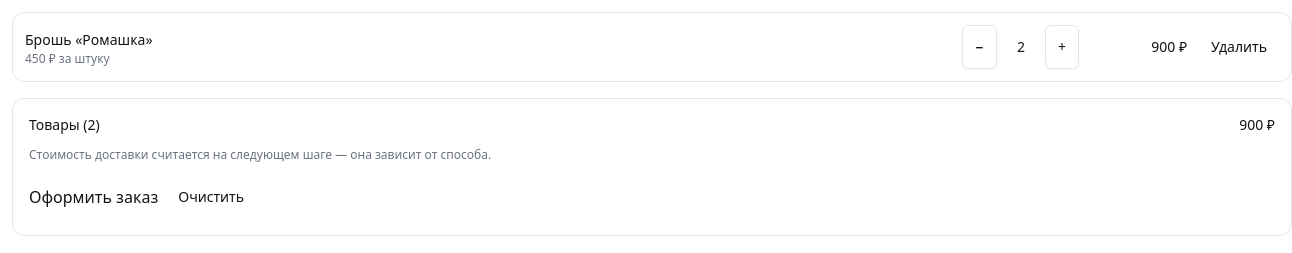
Test: CartView › без конфликтов остатков ведёт на оформление
What coordinates should you click on to do the following:
click the button "Оформить заказ"
I would click on:
 (94, 197)
Its box is [29, 175, 158, 219].
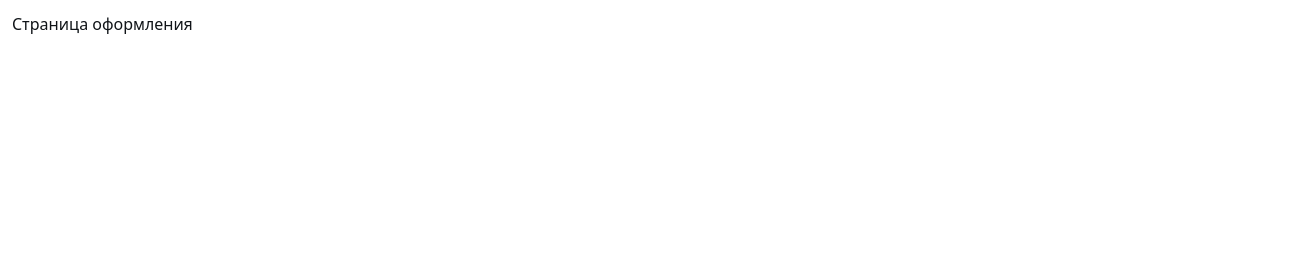
Expected: the text "Страница оформления" is shown, [12, 13, 193, 35]
